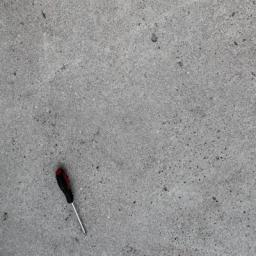FOD: (54, 167, 93, 238)
